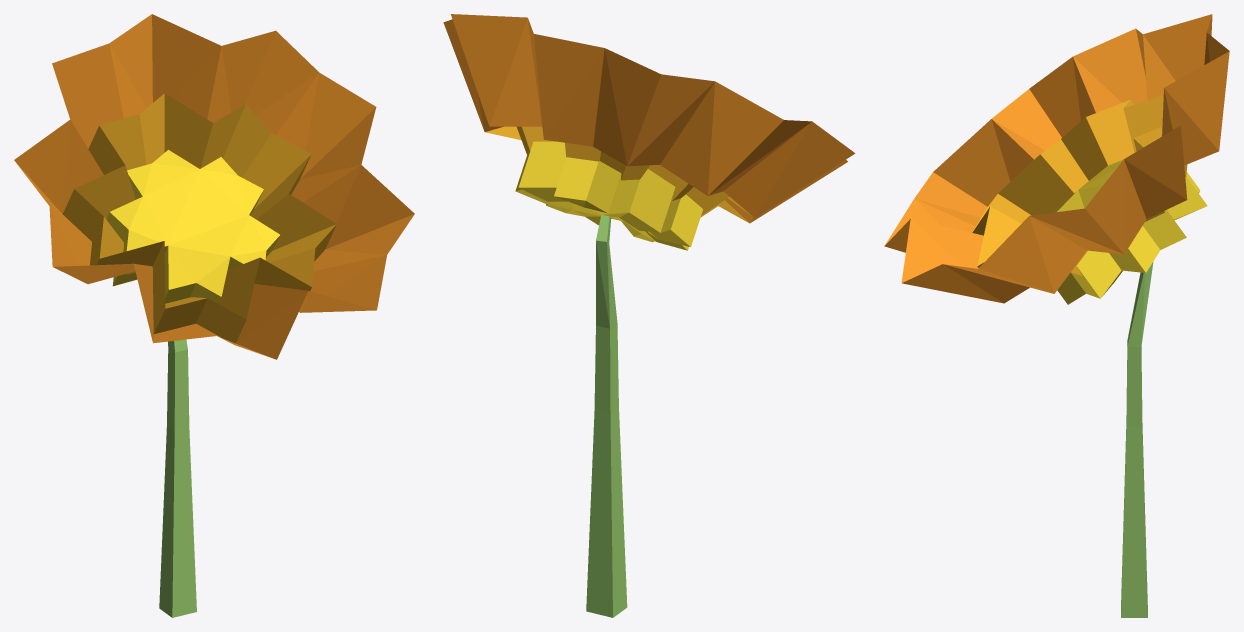
The model's file is flower01_orange.fbx.
3 renders of one model, left to right at view 1: azimuth 30°, elevation 25°; view 2: azimuth 150°, elevation 25°; view 3: azimuth 270°, elevation 25°, orthographic. The views are drawn at different scales.
Parts seen in each view (by area): view 1: flower01_orange_LOD0; view 2: flower01_orange_LOD0; view 3: flower01_orange_LOD0.
Part boxes in pixels (x1=…): flower01_orange_LOD0: x1=14, y1=14, x2=414, y2=617; flower01_orange_LOD0: x1=443, y1=14, x2=855, y2=617; flower01_orange_LOD0: x1=884, y1=14, x2=1229, y2=617.
Size of what is drawn, in the model's own units: 57.01 by 86.48 by 47.41.
